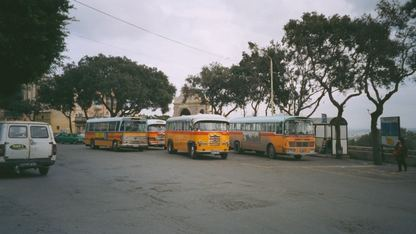bus: (230, 114, 316, 158), (165, 113, 230, 160), (85, 116, 148, 153), (147, 120, 167, 148)
